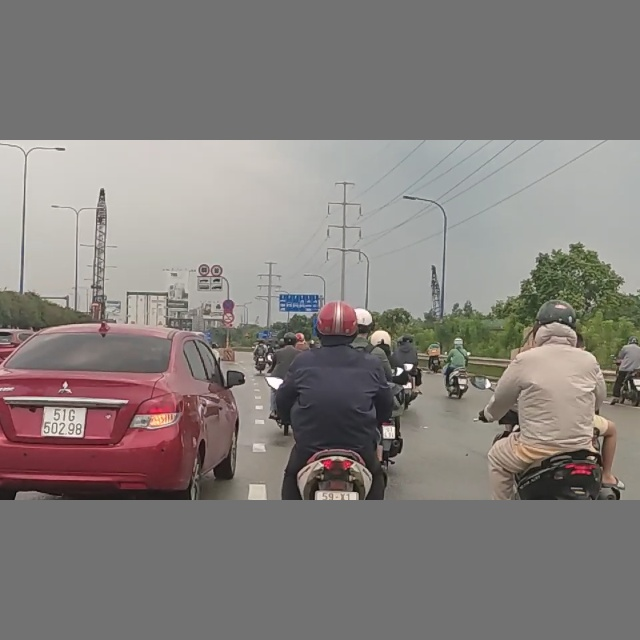P.130: (222, 299, 234, 312)
